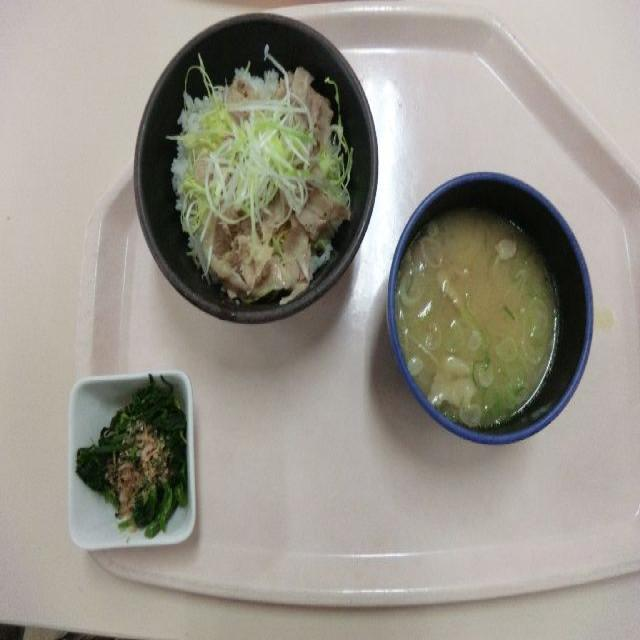汤锅炖物: (386, 144, 620, 451)
